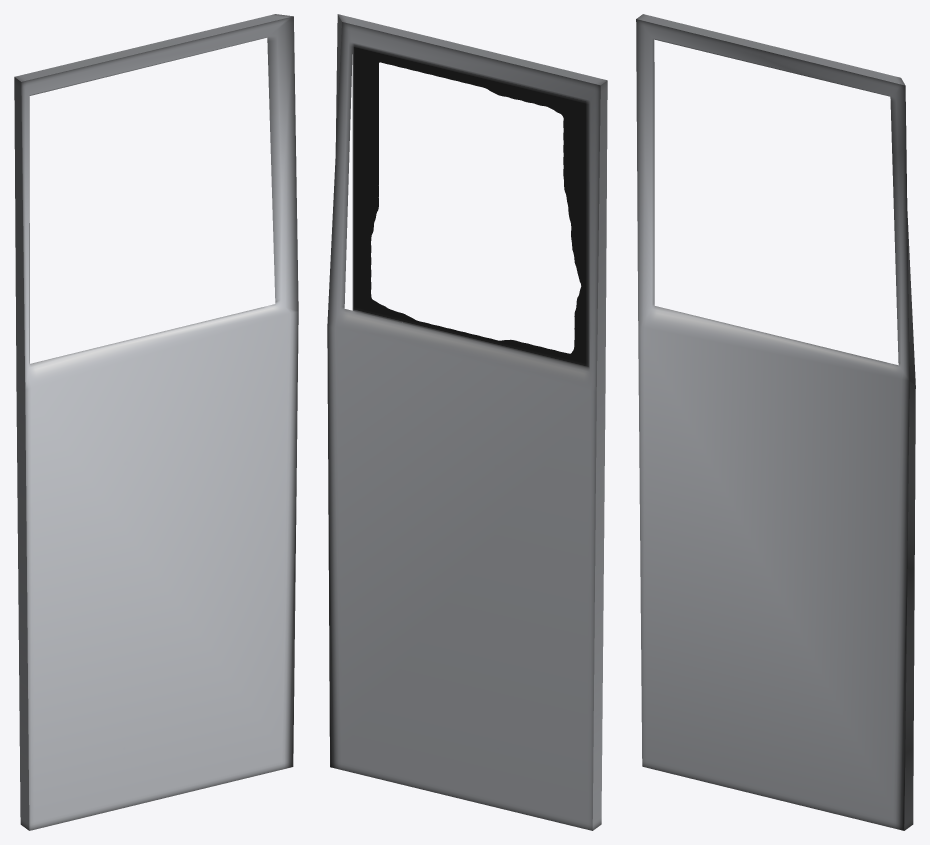
File: DoorL.FBX
The picture shows the model from 3 angles, left to right: view 1: azimuth 30°, elevation 25°; view 2: azimuth 150°, elevation 25°; view 3: azimuth 330°, elevation 25°; orthographic projection.
Parts seen in each view (by area): view 1: DoorL; view 2: DoorL, WindowBL; view 3: DoorL.
Boxes of the visible parts, x1,y1,x2,y2 form: DoorL: (14, 14, 298, 830); DoorL: (327, 14, 607, 830); WindowBL: (352, 43, 589, 368); DoorL: (636, 14, 915, 830).
Size of the model in its own units: 63.45 by 165 by 3.54.
